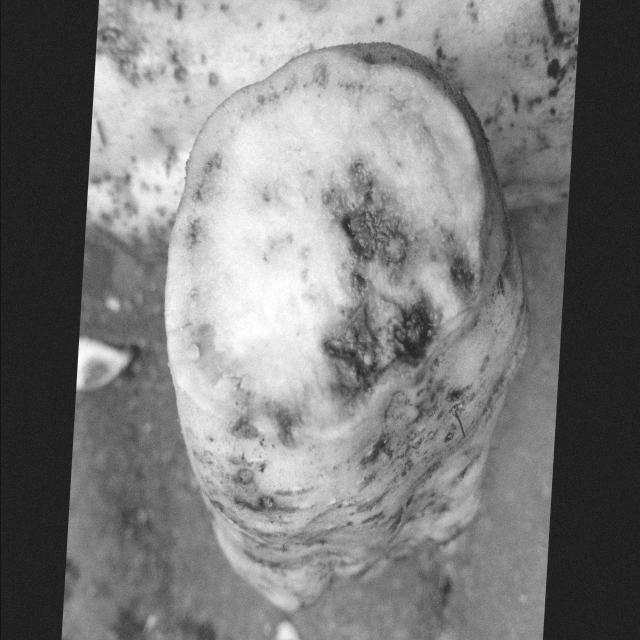Sick Sweet Potato_Tuber Rot: (165, 43, 489, 447)
